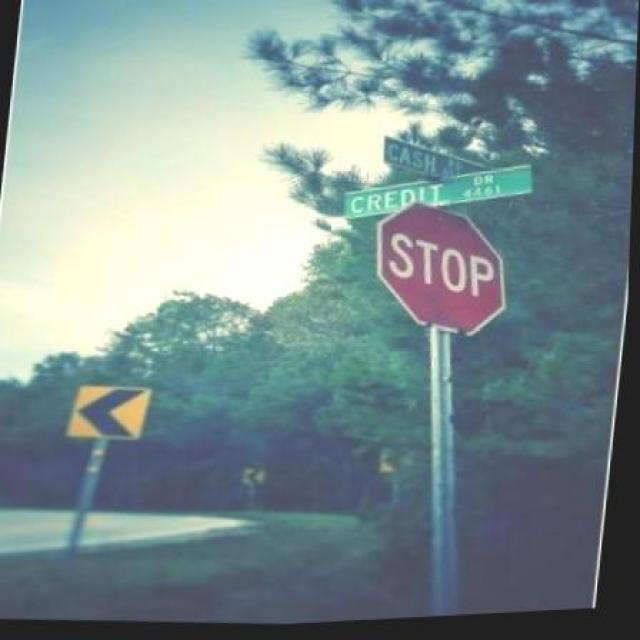stop_sign: (370, 201, 520, 346)
